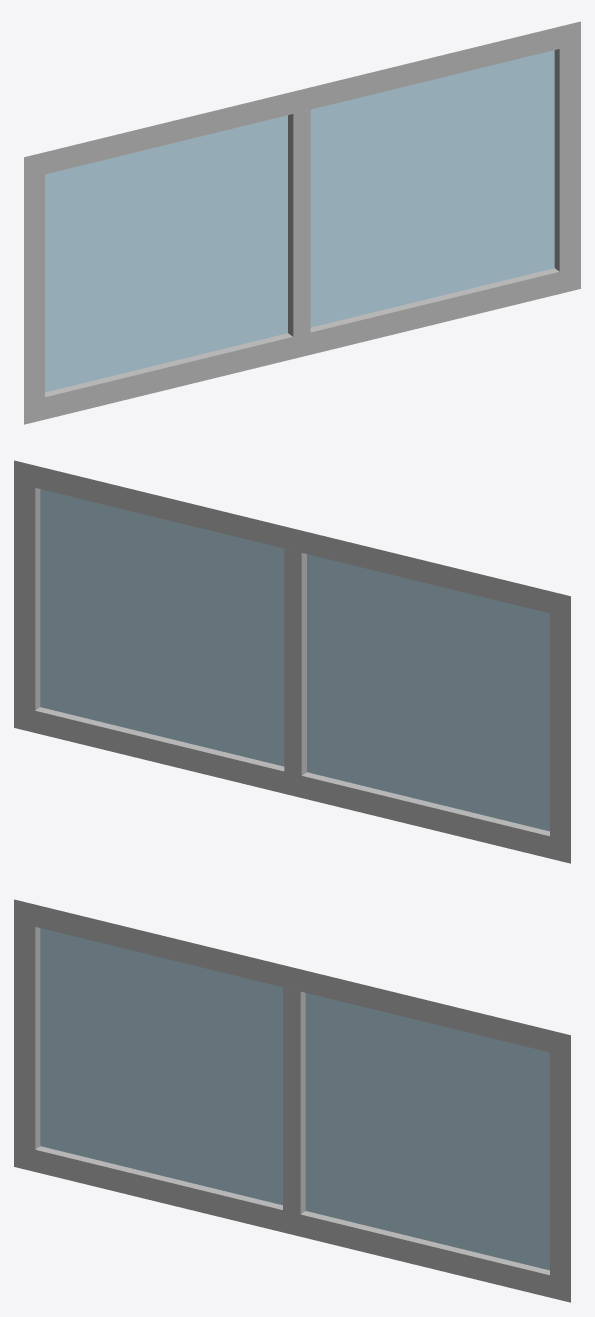
The model's file is SM_window_02.gltf.
3 views of the same model, one above another, from view 1: azimuth 30°, elevation 25°; view 2: azimuth 150°, elevation 25°; view 3: azimuth 330°, elevation 25° (orthographic).
Visible parts, largest first — view 1: SM_window_02; view 2: SM_window_02; view 3: SM_window_02.
Boxes of the visible parts, box(x1,y1,x2,y2) form: SM_window_02: box(24, 21, 580, 424); SM_window_02: box(14, 460, 570, 863); SM_window_02: box(14, 899, 570, 1302).
Size of the model in its own units: 1.31 by 0.6 by 0.041.
